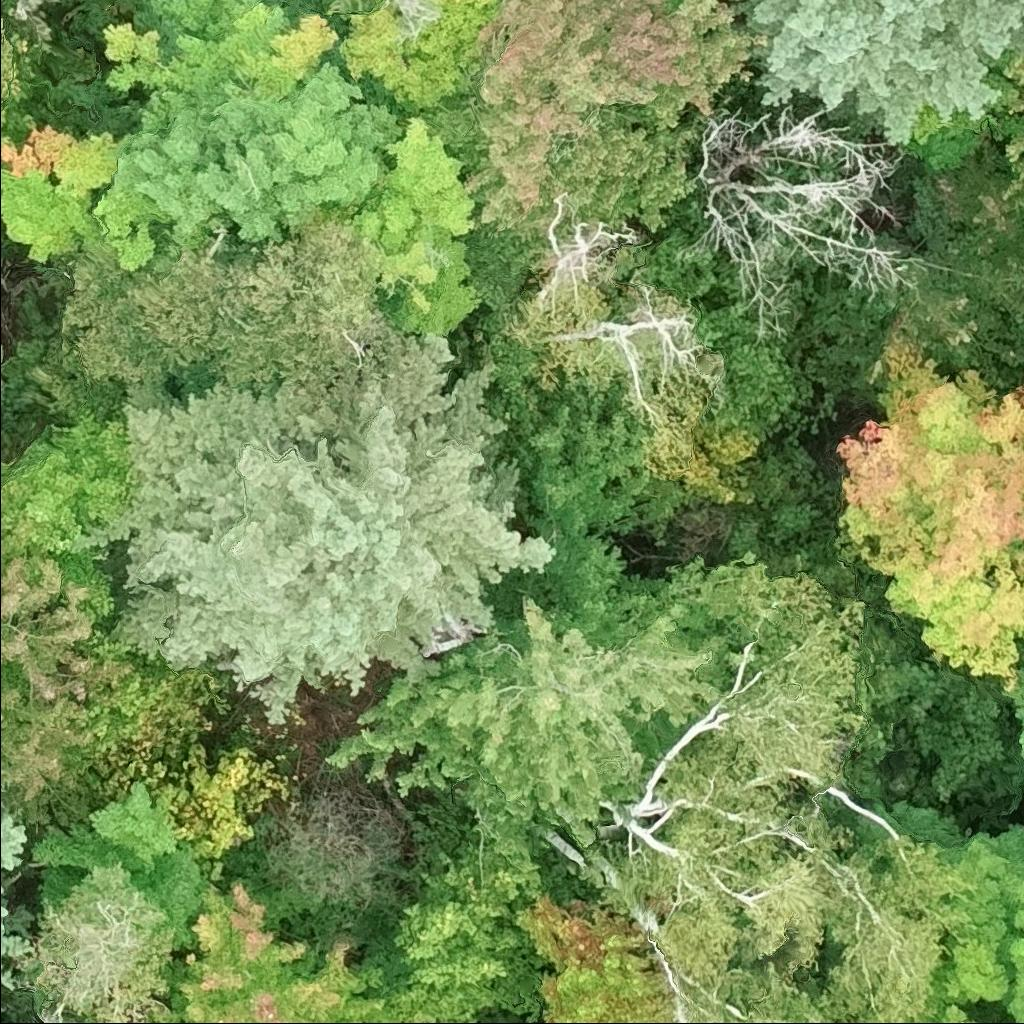crown: (68, 327, 560, 729), (0, 0, 486, 334), (321, 548, 775, 899), (631, 566, 972, 1023), (433, 0, 769, 271), (54, 202, 401, 398), (836, 368, 1023, 690), (679, 100, 917, 336), (0, 487, 141, 849), (731, 0, 1023, 147), (151, 877, 389, 1023), (30, 780, 216, 959), (368, 841, 547, 1023), (890, 800, 1023, 1023), (0, 408, 126, 625), (511, 892, 671, 1023), (335, 0, 496, 115), (0, 795, 39, 992), (4, 0, 61, 48), (0, 0, 22, 120), (1002, 641, 1023, 759)
